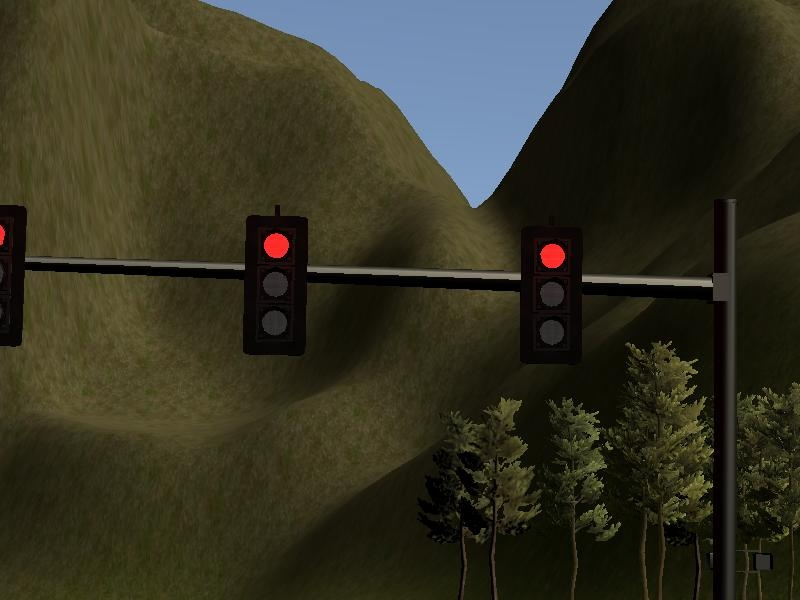red: (243, 217, 310, 357), (519, 232, 580, 361), (1, 205, 24, 349)
